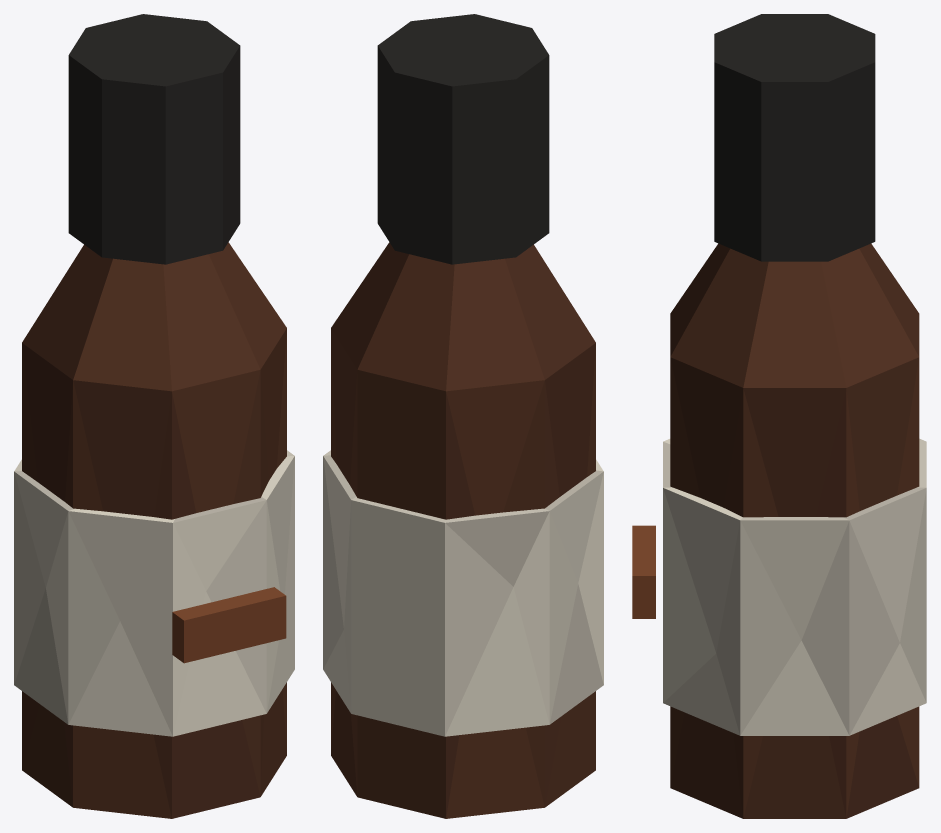
The model's file is antiseptic_yod_idle.glb.
The picture shows the model from 3 angles, left to right: view 1: azimuth 30°, elevation 25°; view 2: azimuth 150°, elevation 25°; view 3: azimuth 270°, elevation 25°; orthographic projection.
Parts seen in each view (by area): view 1: antiseptic_yod_idle; view 2: antiseptic_yod_idle; view 3: antiseptic_yod_idle.
Boxes of the visible parts, bbox=[...] form: antiseptic_yod_idle: bbox=[14, 14, 294, 818]; antiseptic_yod_idle: bbox=[323, 14, 603, 818]; antiseptic_yod_idle: bbox=[632, 14, 926, 818].
Bounding box in the file's own units: 0.0333 × 0.1 × 0.0371.
Materials: 1 (1 with a texture image).
